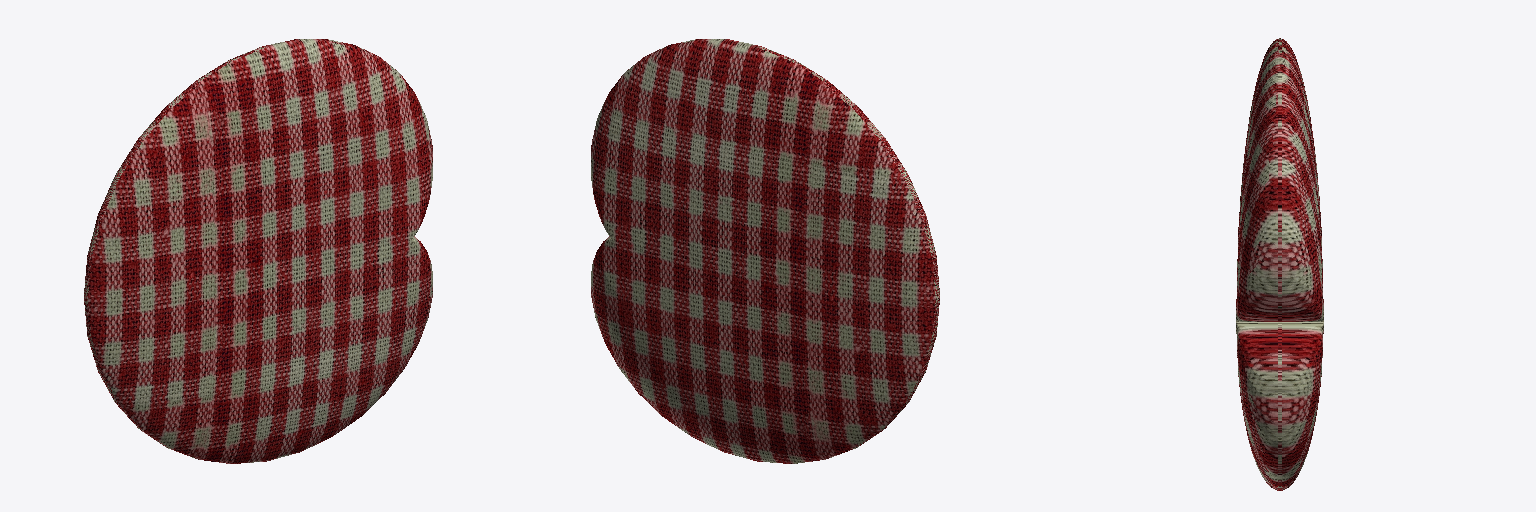
3 views of the same model, side by side, from view 1: azimuth 30°, elevation 25°; view 2: azimuth 150°, elevation 25°; view 3: azimuth 270°, elevation 25° (orthographic).
Bounding box in the file's own units: 8.99 × 10.37 × 2.
1 materials, 1 textured.